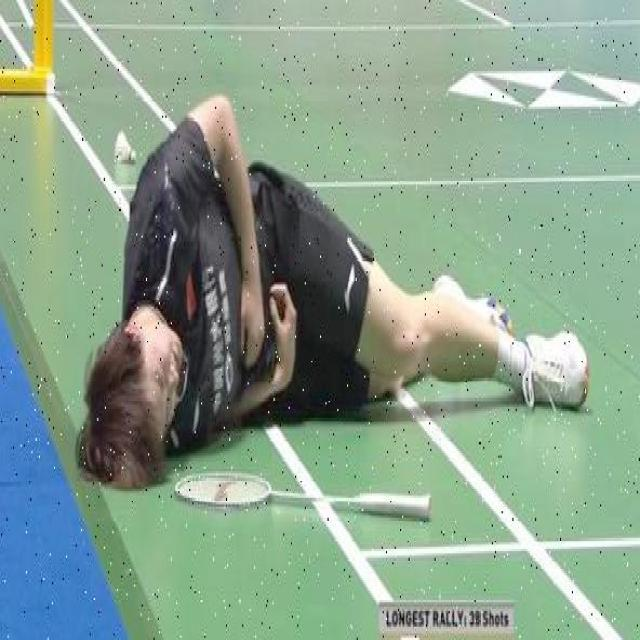fall: (80, 158, 582, 487)
